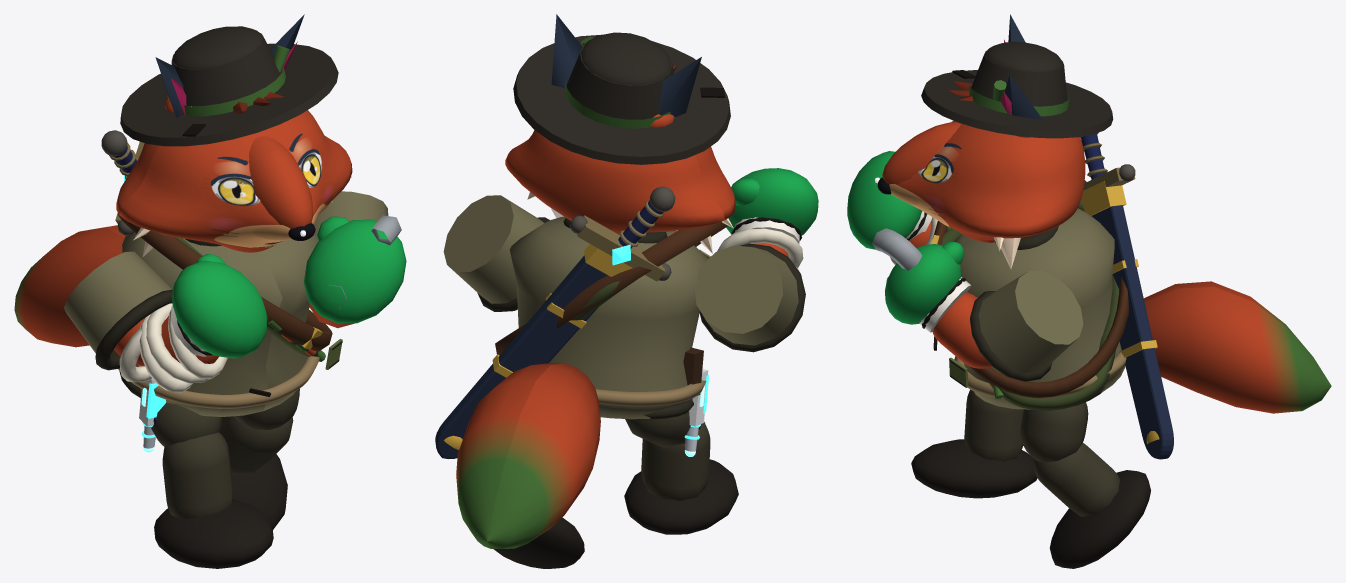
Rendered from jack.glb.
3 views of the same model, side by side, from view 1: azimuth 30°, elevation 25°; view 2: azimuth 150°, elevation 25°; view 3: azimuth 270°, elevation 25° (orthographic). The views are drawn at different scales.
Visible parts, largest first — view 1: JALAPEÑO JACK, object 9, object 34, object 30, object 2, object 10, object 11, object 12, object 3; view 2: JALAPEÑO JACK, object 9, object 11, object 30, object 10, object 3, object 6, object 12, object 31, object 32; view 3: JALAPEÑO JACK, object 9, object 34, object 30, object 10, object 11, object 2, object 6, object 12, object 36.
Part boxes in pixels (x1,y1,x2,y2): JALAPEÑO JACK: [14, 92, 401, 568]; object 9: [120, 43, 338, 146]; object 34: [303, 219, 406, 323]; object 30: [172, 260, 267, 358]; object 2: [201, 133, 332, 247]; object 10: [171, 32, 282, 105]; object 11: [173, 26, 263, 68]; object 12: [167, 67, 285, 116]; object 3: [155, 57, 183, 117]; JALAPEÑO JACK: [435, 65, 805, 568]; object 9: [513, 34, 730, 164]; object 11: [581, 32, 670, 85]; object 30: [726, 168, 818, 235]; object 10: [566, 38, 673, 119]; object 3: [658, 57, 701, 117]; object 6: [551, 14, 582, 88]; object 12: [565, 79, 670, 128]; object 31: [731, 178, 759, 206]; object 32: [735, 217, 799, 243]; JALAPEÑO JACK: [872, 81, 1331, 568]; object 9: [921, 70, 1113, 138]; object 34: [885, 244, 961, 324]; object 30: [847, 151, 922, 249]; object 10: [971, 50, 1067, 106]; object 11: [985, 42, 1063, 72]; object 2: [889, 121, 961, 226]; object 6: [1004, 75, 1042, 120]; object 12: [968, 84, 1069, 116]; object 36: [919, 277, 971, 332].
Bounding box in the file's own units: 1.81 × 2.83 × 2.5.
41 materials, 1 textured.
